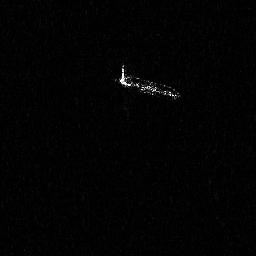ship: (116, 64, 183, 102)
